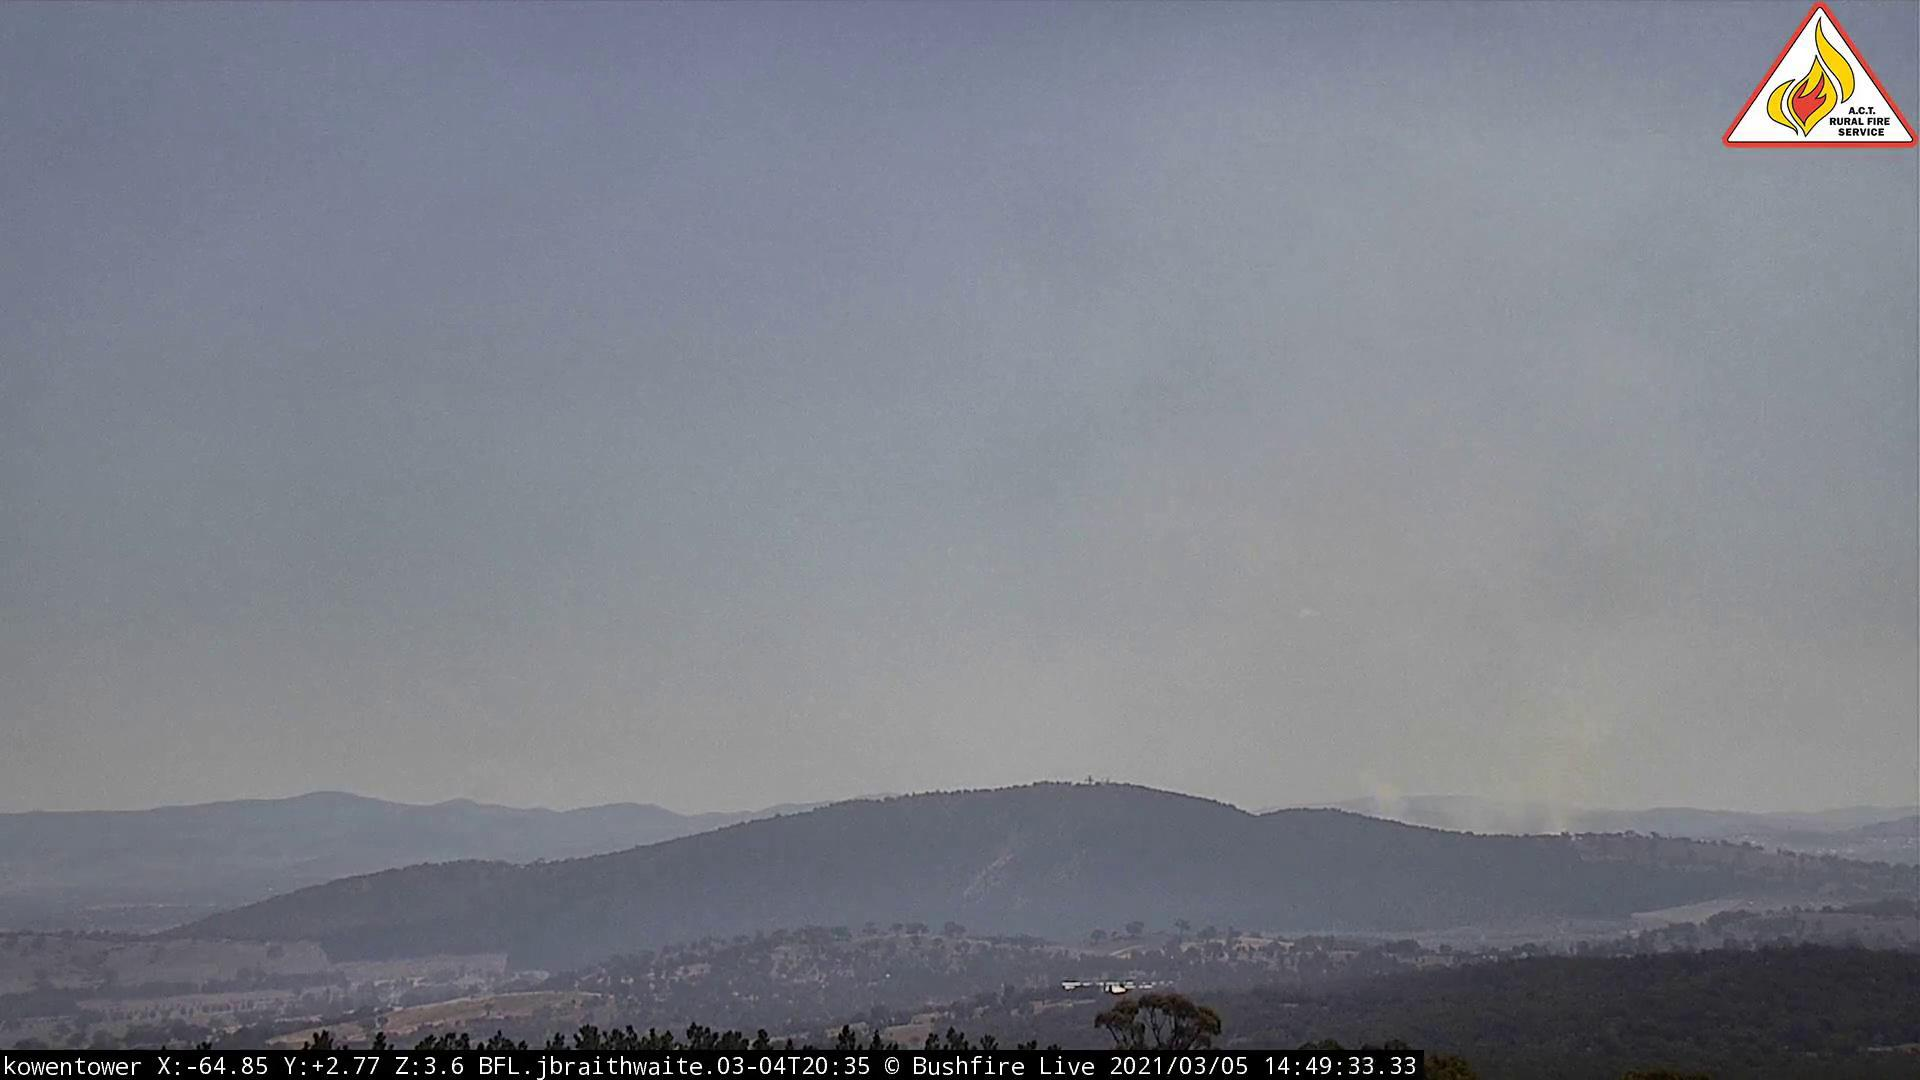Smoke: (1118, 404, 1822, 851)
